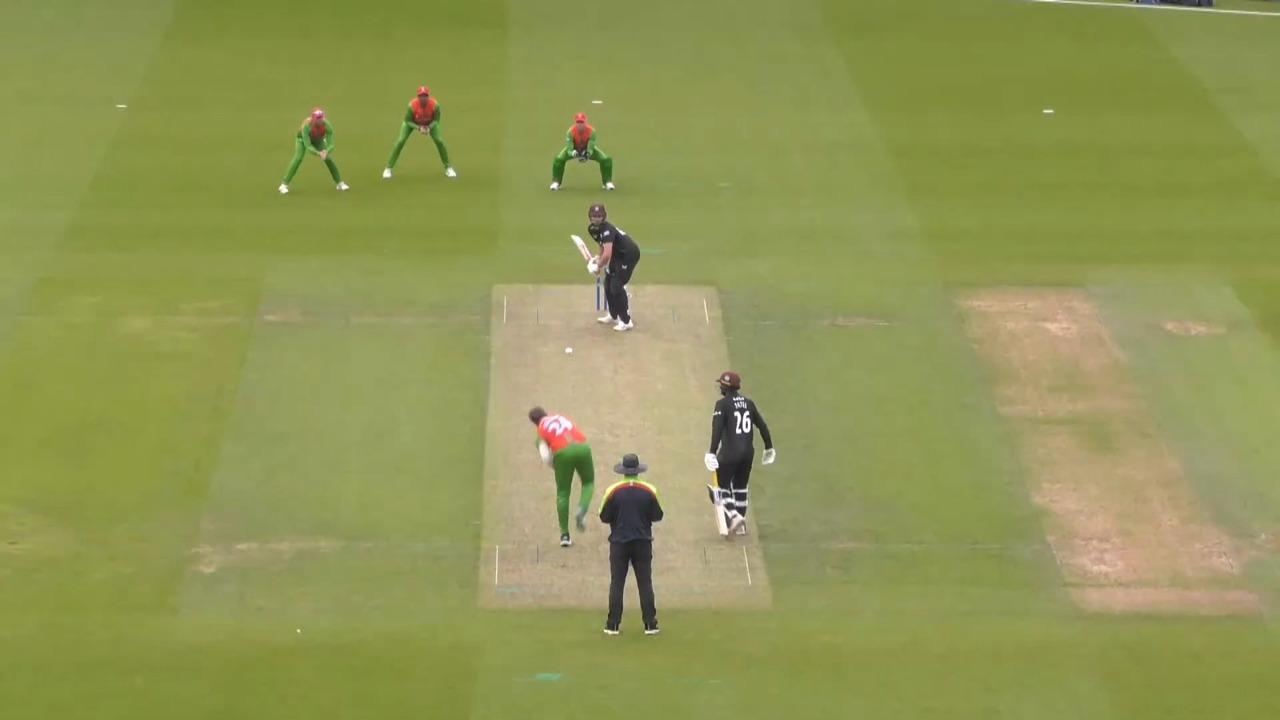sports ball: (565, 347, 573, 353)
